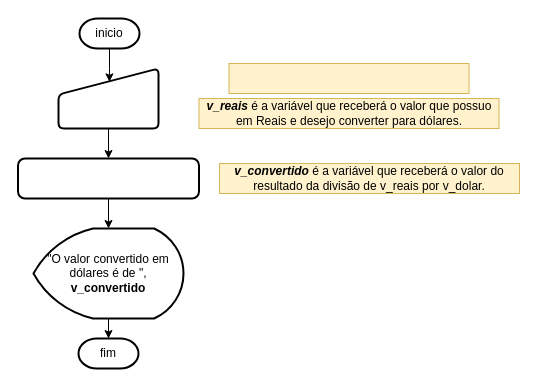
Some shapes in this 537 by 386 pixel diagram are drawn without their labels. The box of each missing label's shape, as (x1, y1, x2, y2) in pixels:
v_convertido = v_reais / v_dolar: (16, 157, 200, 199)
v_dolar v_reais: (57, 67, 159, 129)
v_dolar é a variável que receberá o valor da cotação do dólar: (228, 62, 469, 94)
